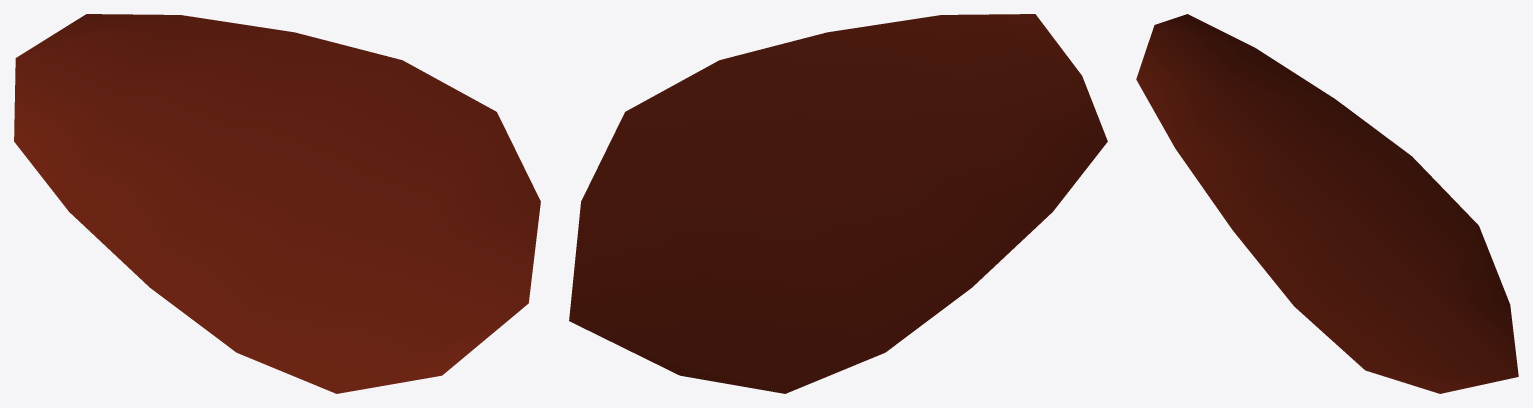
The model's file is pheasant_feather_flight_tertiary_081.obj.
3 renders of one model, left to right at view 1: azimuth 30°, elevation 25°; view 2: azimuth 150°, elevation 25°; view 3: azimuth 330°, elevation 25°, orthographic. The views are drawn at different scales.
Parts seen in each view (by area): view 1: feather_flight_tertiary_081; view 2: feather_flight_tertiary_081; view 3: feather_flight_tertiary_081.
Part boxes in pixels (x1,y1,x2,y2): feather_flight_tertiary_081: [14, 14, 540, 393]; feather_flight_tertiary_081: [569, 14, 1107, 393]; feather_flight_tertiary_081: [1136, 14, 1518, 393].
Bounding box in the file's own units: 0.016 × 0.013 × 0.000634.
